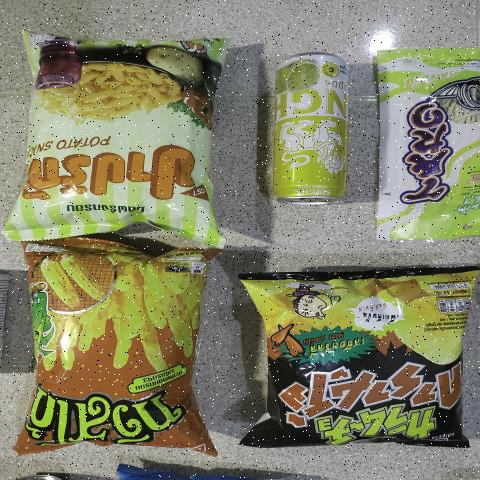karamujo: (253, 282, 470, 445)
paprika: (30, 43, 206, 231)
singha_yellow: (272, 51, 351, 206)
taro_yellow: (379, 50, 480, 242)
twisco: (30, 258, 200, 443)
